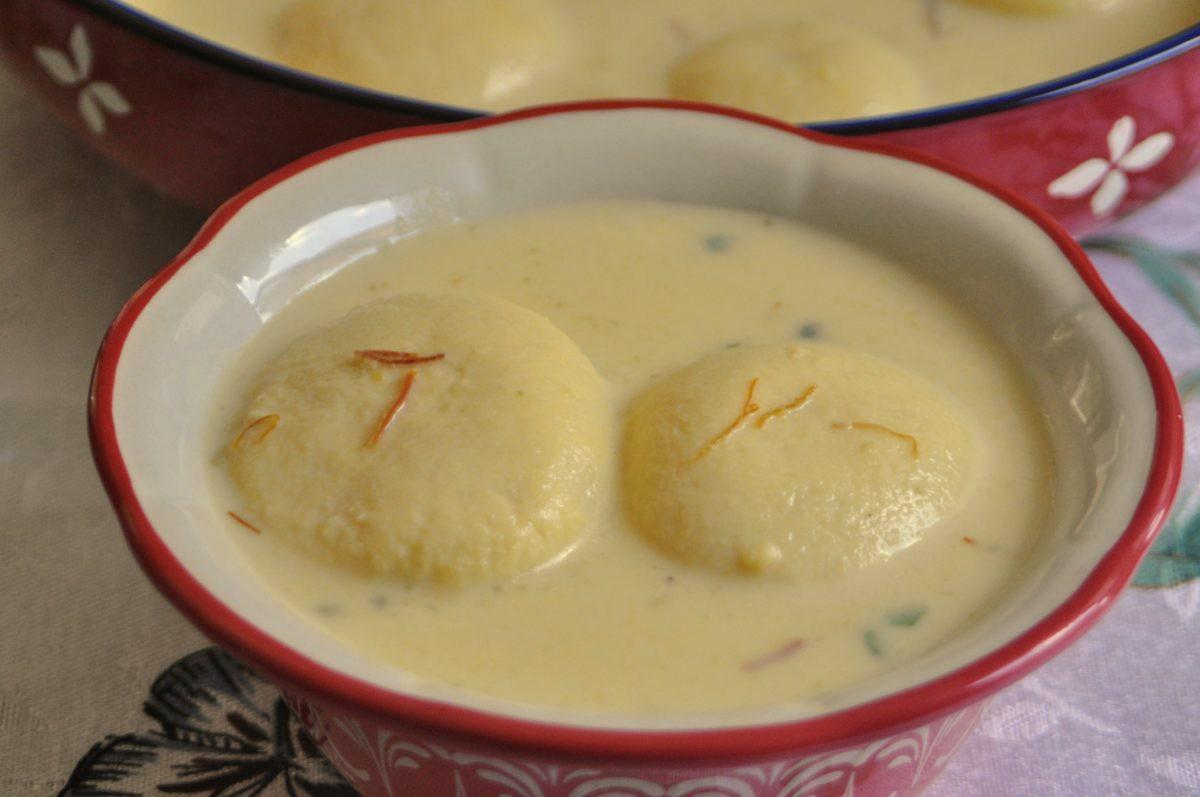RasMalai: (199, 190, 1077, 710)
